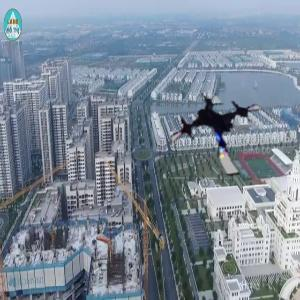drone: (171, 82, 277, 188)
